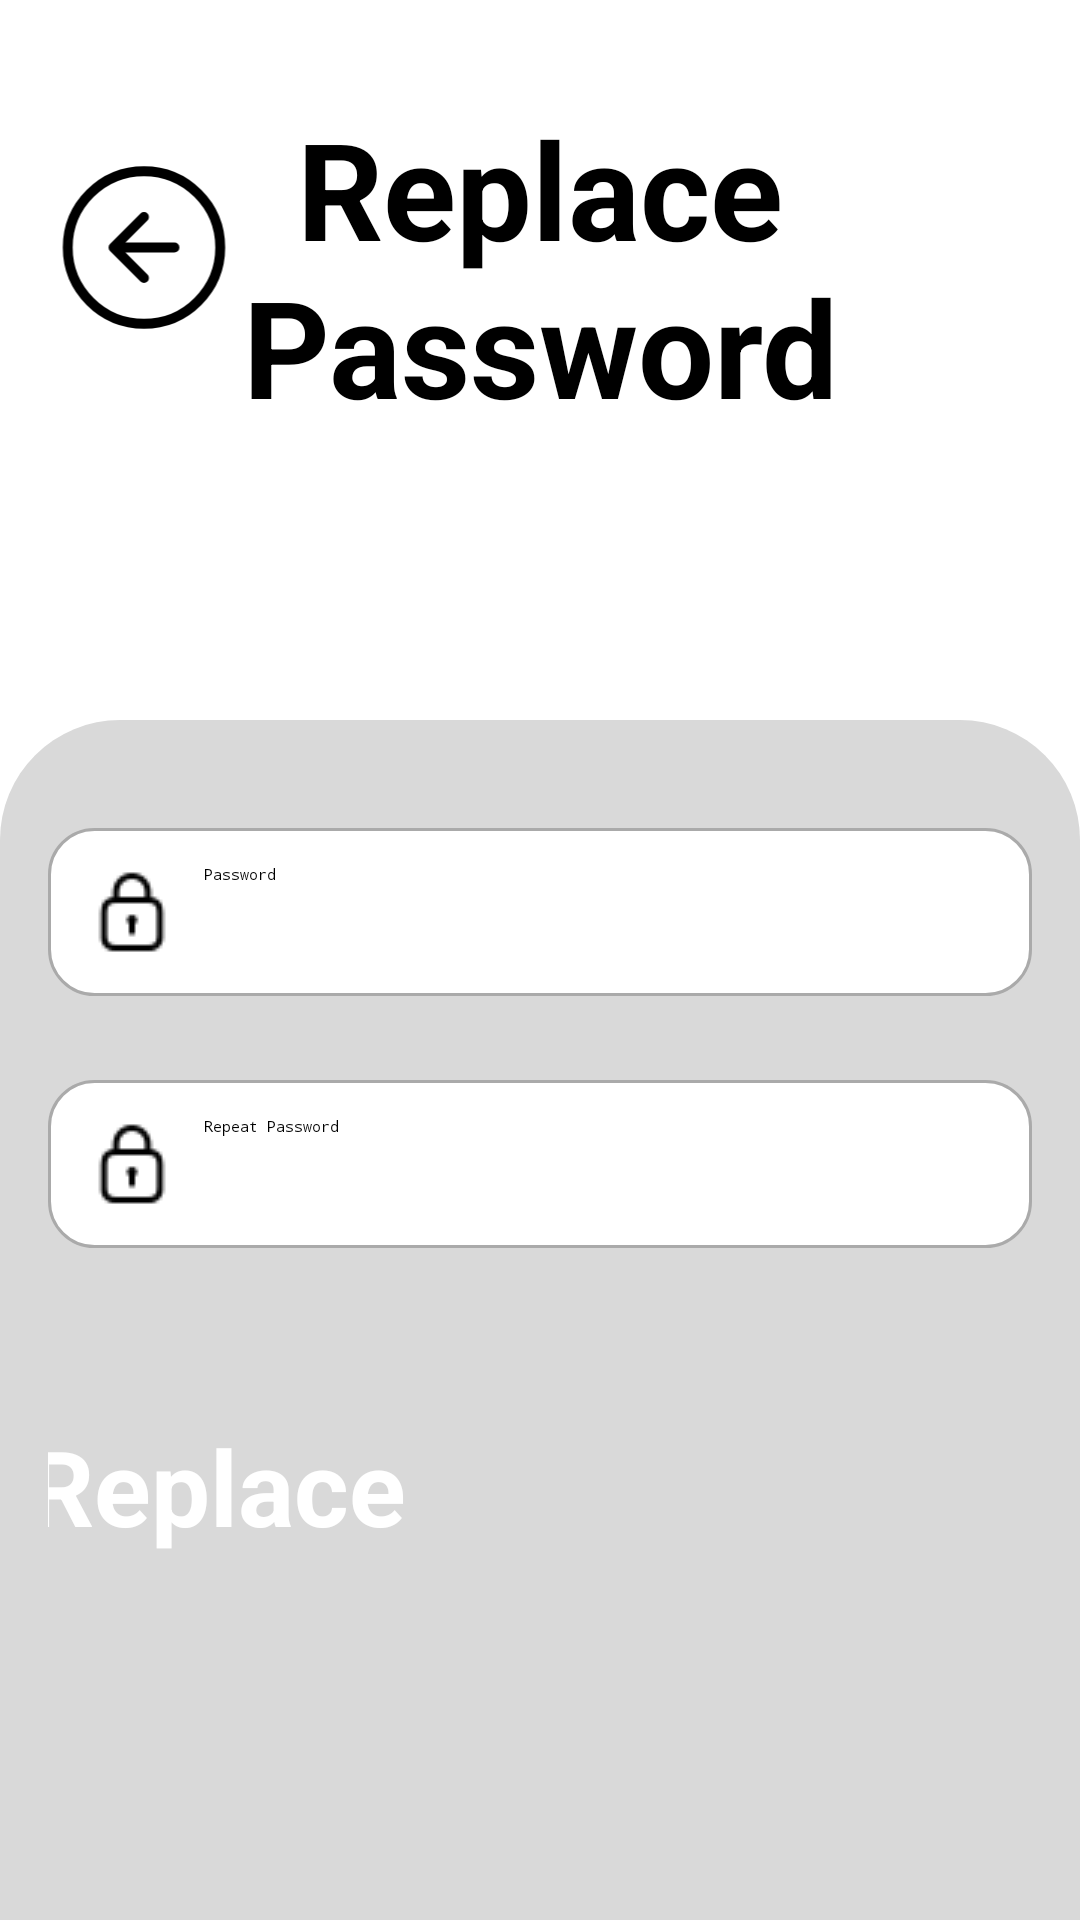

Where to tap for icons on this 1080*1920 app screen, as (x=x, y=y):
backbutton: (x=144, y=247)
